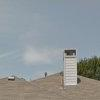Chimney: (52, 39, 88, 94)
